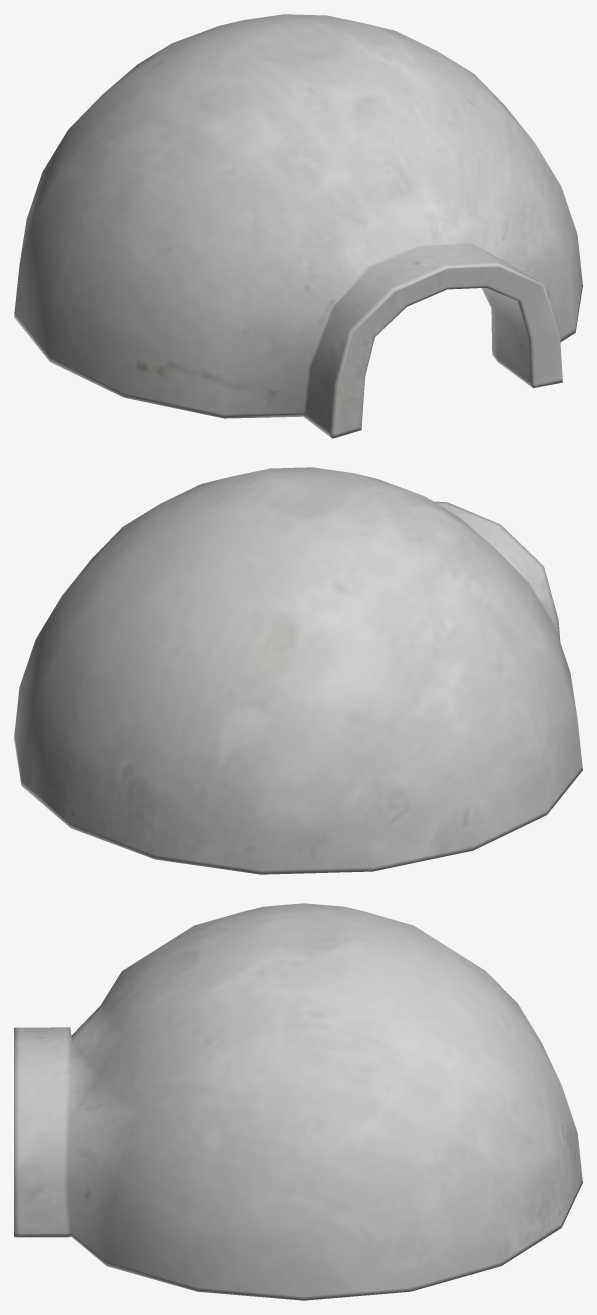
The model's file is Niflheim_Memory_Igloo.glb.
3 views of the same model, one above another, from view 1: azimuth 30°, elevation 25°; view 2: azimuth 150°, elevation 25°; view 3: azimuth 270°, elevation 25° (orthographic). The views are drawn at different scales.
Parts seen in each view (by area): view 1: igloo_0; view 2: igloo_0; view 3: igloo_0.
Boxes of the visible parts, left/top/right/bottom form: igloo_0: left=14, top=14, right=582, bottom=438; igloo_0: left=14, top=467, right=582, bottom=874; igloo_0: left=14, top=903, right=582, bottom=1300.
Size of the model in its own units: 2 by 0.9841 by 2.04.
Materials: 1 (1 with a texture image).
